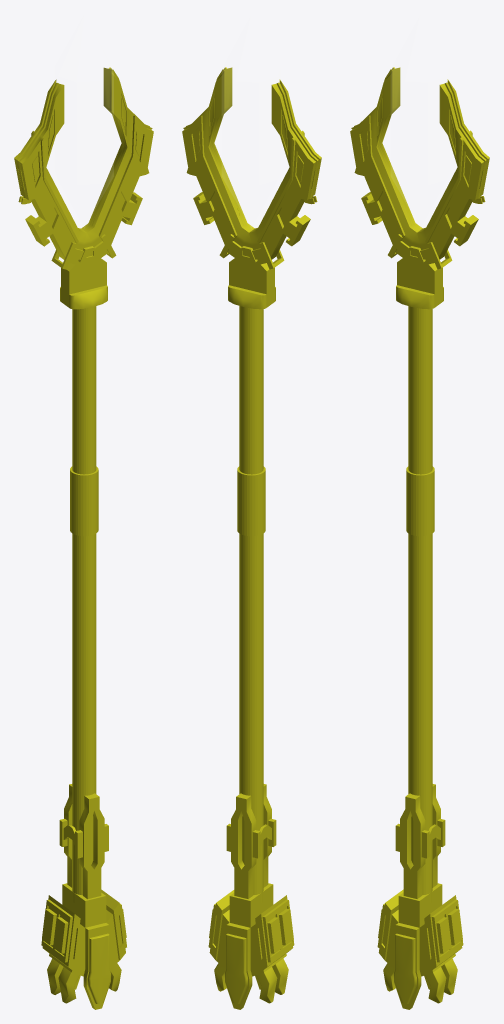
The model's file is gold_stuff_with_cristal.glb.
3 views of the same model, side by side, from view 1: azimuth 30°, elevation 25°; view 2: azimuth 150°, elevation 25°; view 3: azimuth 330°, elevation 25° (orthographic).
Parts seen in each view (by area): view 1: Cube, Cylinder, Cube.001; view 2: Cube, Cylinder, Cube.001; view 3: Cube, Cylinder, Cube.001.
Boxes of the visible parts, x1=… form: Cube: x1=14, y1=67, x2=153, y2=309; Cylinder: x1=70, y1=306, x2=98, y2=902; Cube.001: x1=41, y1=784, x2=126, y2=1009; Cube: x1=182, y1=67, x2=321, y2=309; Cylinder: x1=237, y1=306, x2=265, y2=902; Cube.001: x1=208, y1=784, x2=294, y2=1009; Cube: x1=350, y1=67, x2=489, y2=309; Cylinder: x1=406, y1=306, x2=434, y2=902; Cube.001: x1=377, y1=784, x2=463, y2=1009.
Size of the model in its own units: 2.87 by 20.12 by 1.2.
